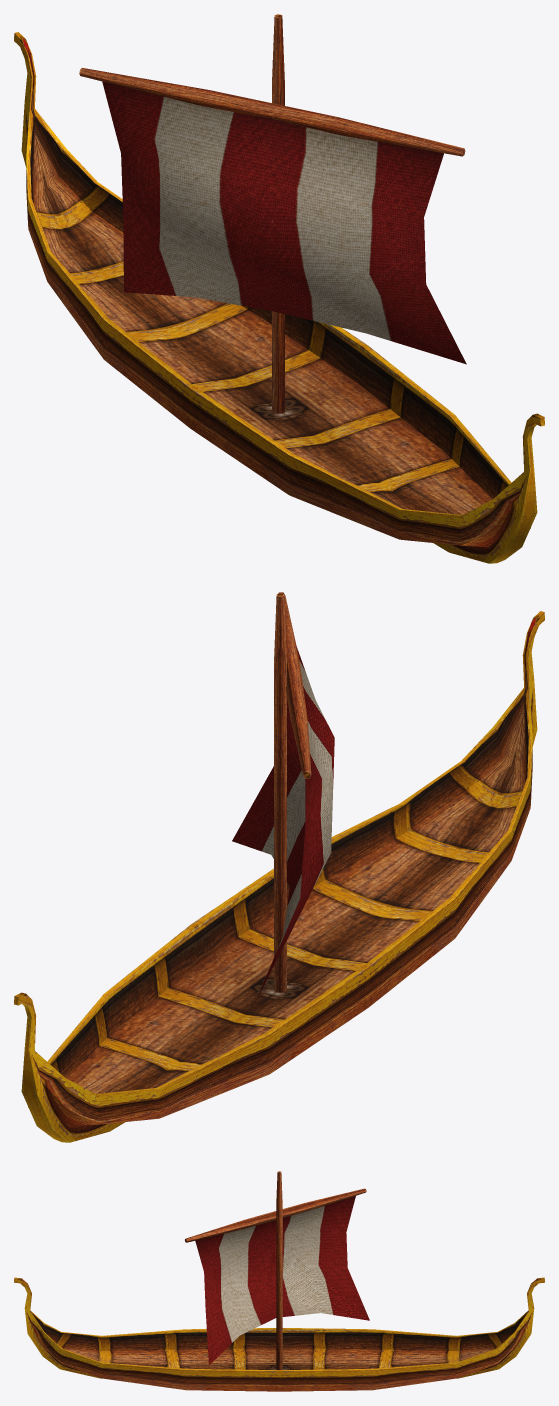
File: mm9_deco_toyboatred.glb
3 renders of one model, top to bottom at view 1: azimuth 30°, elevation 25°; view 2: azimuth 150°, elevation 25°; view 3: azimuth 270°, elevation 25°, orthographic. The views are drawn at different scales.
Parts seen in each view (by area): view 1: Toyboatred; view 2: Toyboatred; view 3: Toyboatred.
Part boxes in pixels (<box>): Toyboatred: <box>14,14,544,563</box>; Toyboatred: <box>14,592,544,1142</box>; Toyboatred: <box>14,1171,544,1391</box>.
Size of the model in its own units: 0.3306 by 0.5633 by 1.29.
Materials: 1 (1 with a texture image).
